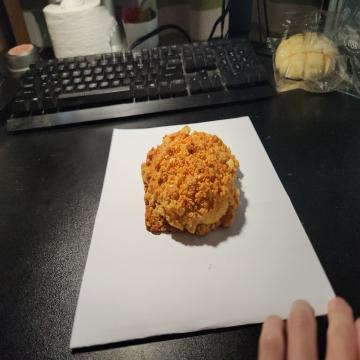soboru_bread: (137, 122, 245, 240)
